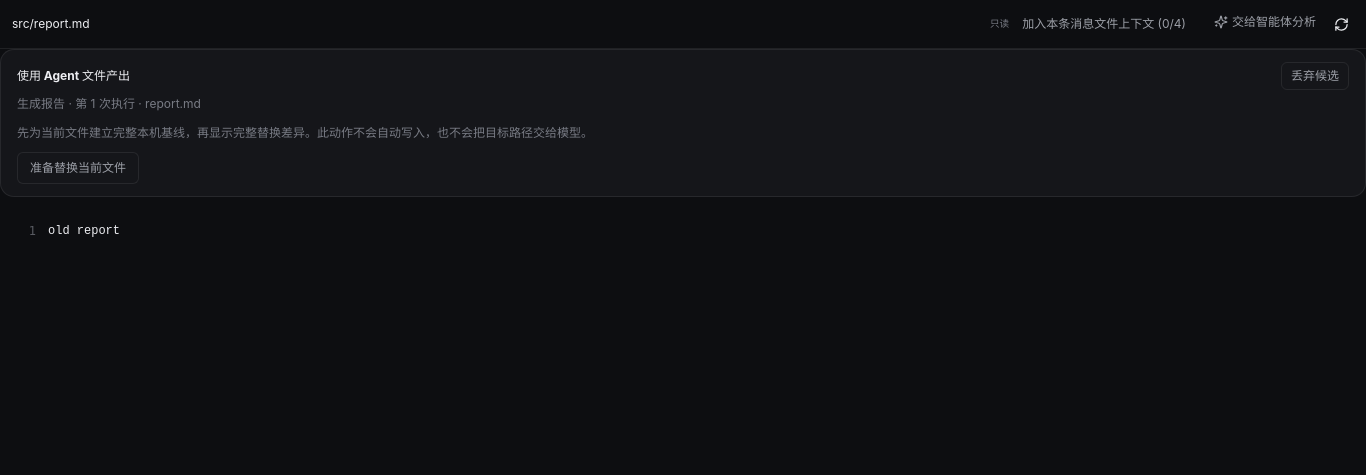
it: local workspace read panels › reviews a submitted Agent file against one selected target before native apply
Click the button "准备替换当前文件". click: [78, 168]
box: left=17, top=152, right=139, bottom=184
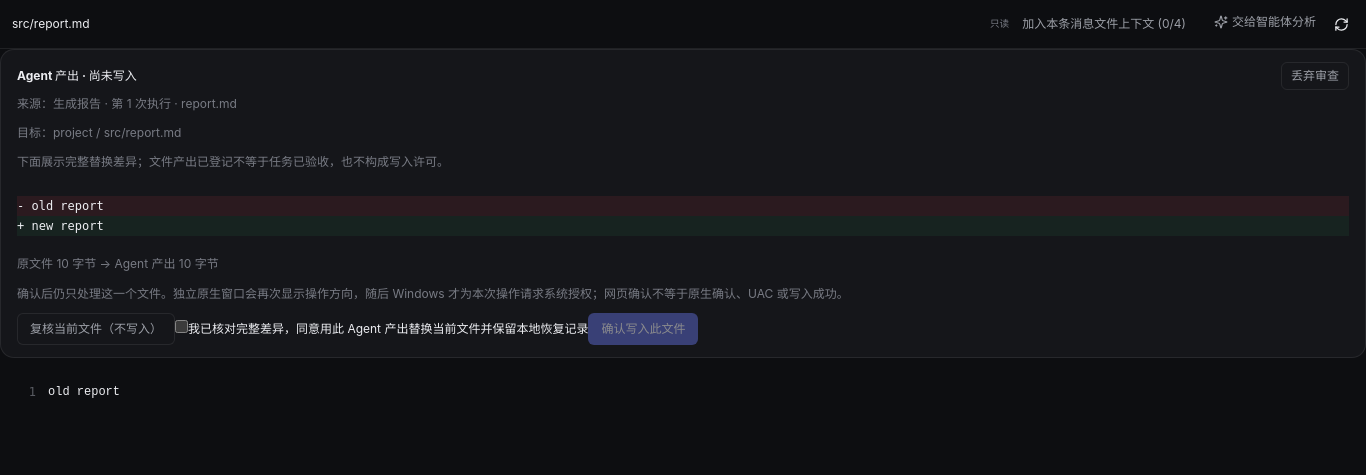
Result: the element named "Agent 产出完整文件差异" shows "- old report" at left=17, top=199, right=104, bottom=213
Result: the element named "Agent 产出完整文件差异" shows "+ new report" at left=17, top=219, right=104, bottom=233
Click the checkbox labelled "我已核对完整差异，同意用此 Agent 产出替换当前文件并保留本地恢复记录". click: [182, 326]
box: left=175, top=320, right=188, bottom=333
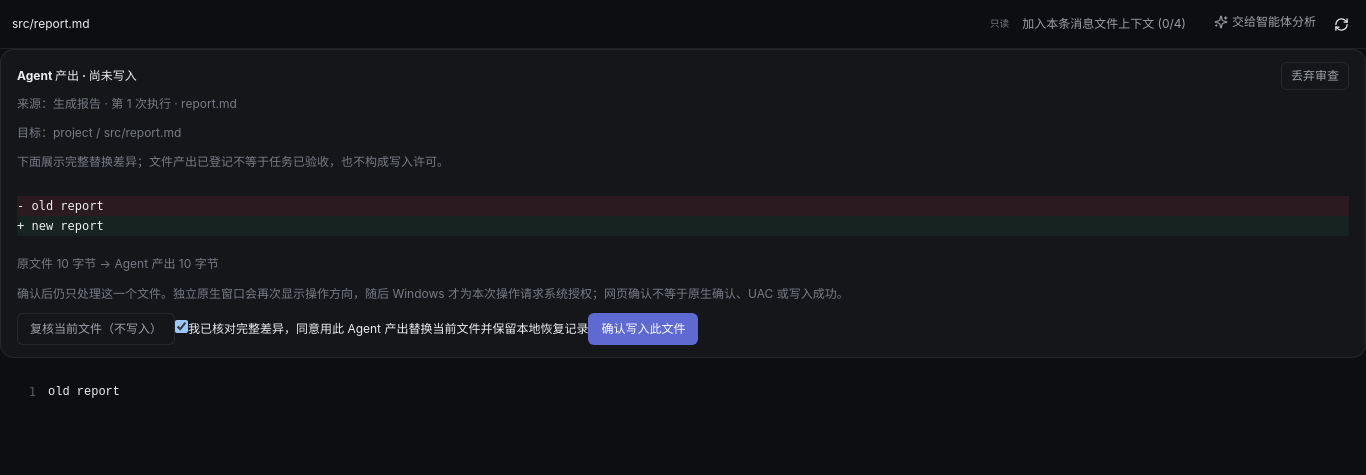
Click the button "确认写入此文件". click: [643, 329]
box: left=588, top=313, right=698, bottom=345
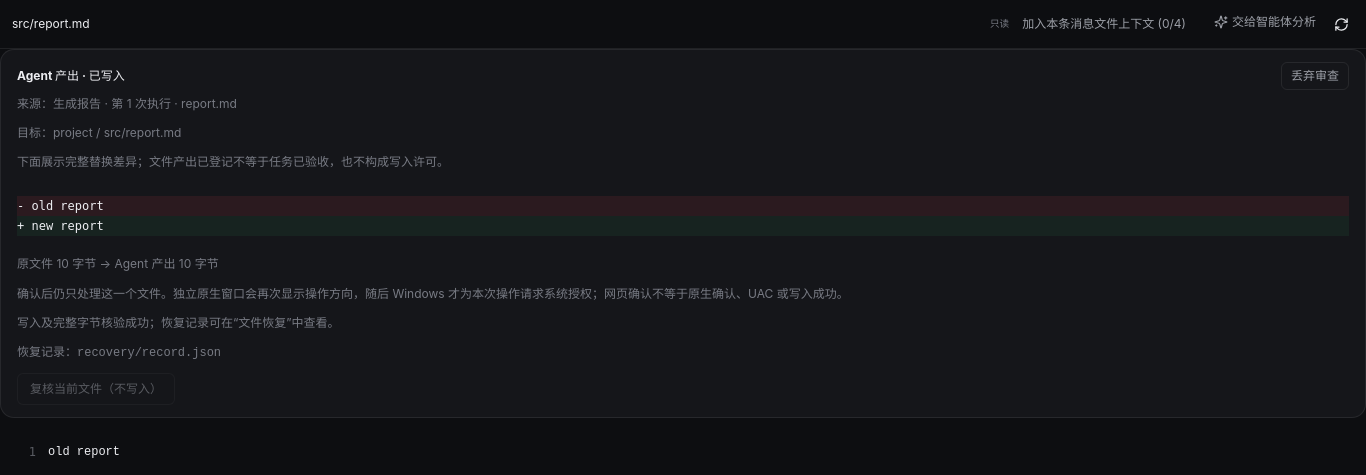
Result: the text "写入及完整字节核验成功；恢复记录可在“文件恢复”中查看。" is shown at left=17, top=315, right=340, bottom=330
